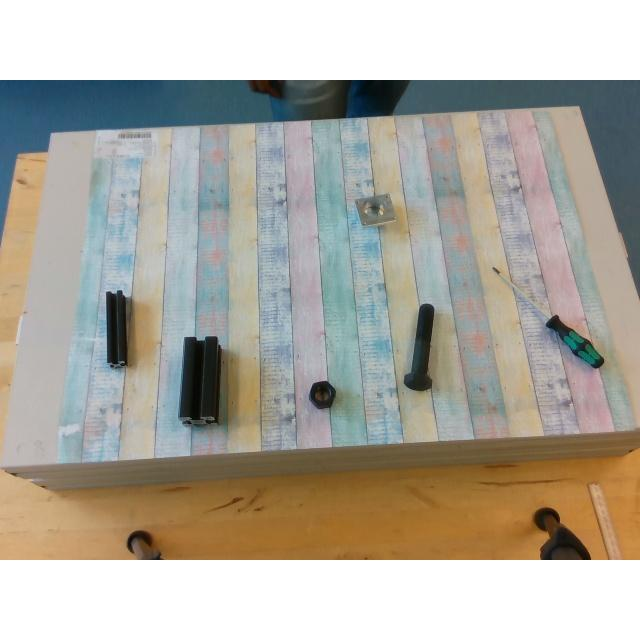F20_20_B: (106, 292, 128, 364)
M20: (309, 381, 335, 407)
M20_100: (403, 303, 432, 389)
S40_40_B: (179, 334, 219, 422)
Screwdriver: (492, 266, 604, 366)
